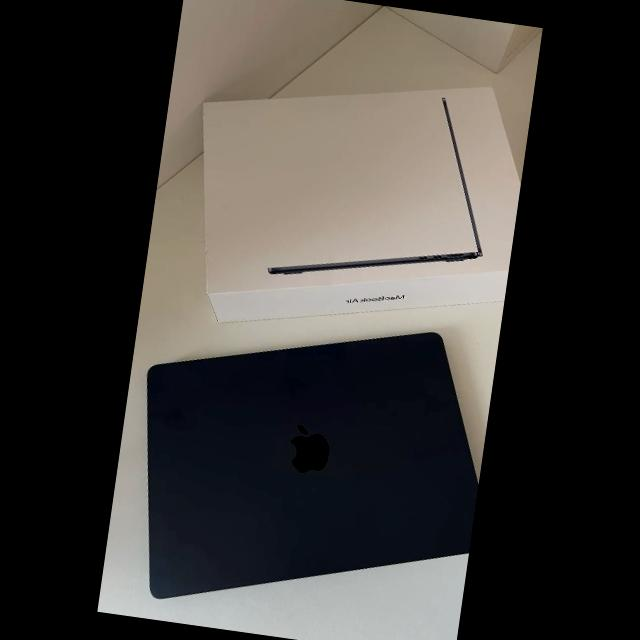laptop: (123, 296, 457, 624)
